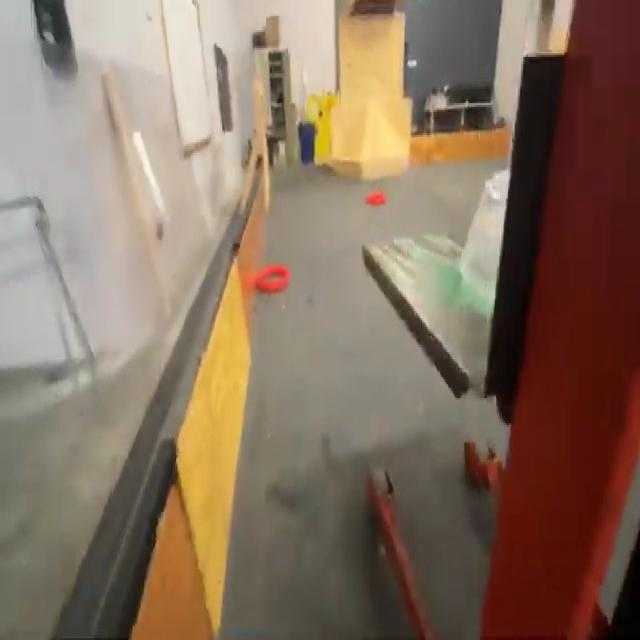note: (250, 265, 292, 295), (364, 190, 386, 206)
